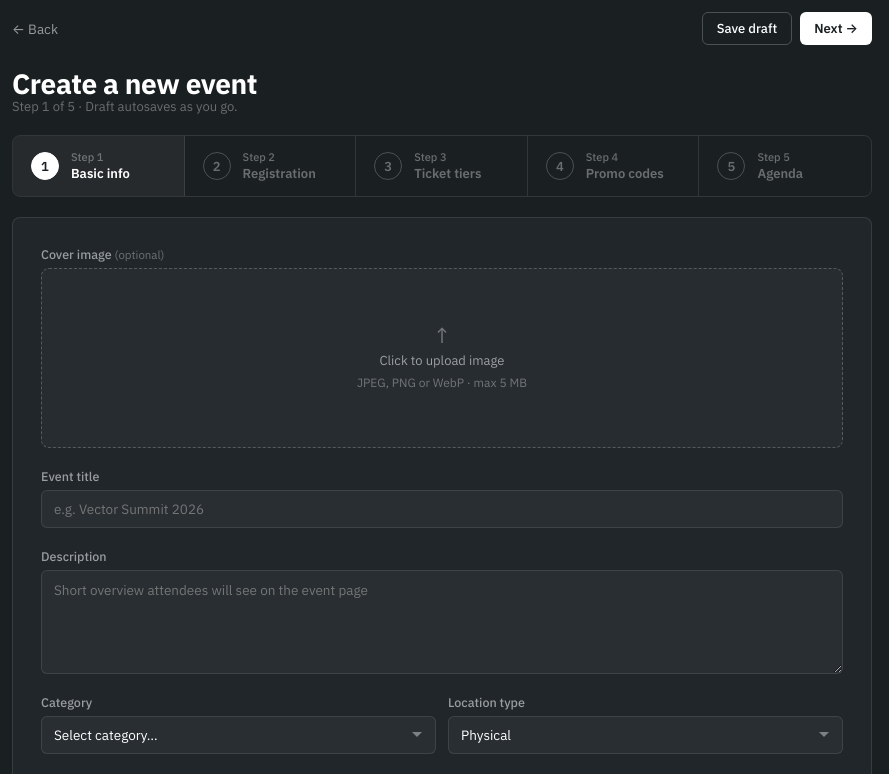
Scenario: CreateEvent › shows tier name required error on save draft when tier name is blank
The width and height of the screenshot is (889, 774).
save draft with no step 1 data should show step 1 error first
Click the button "Save draft" at (747, 28), box [702,12,792,45]
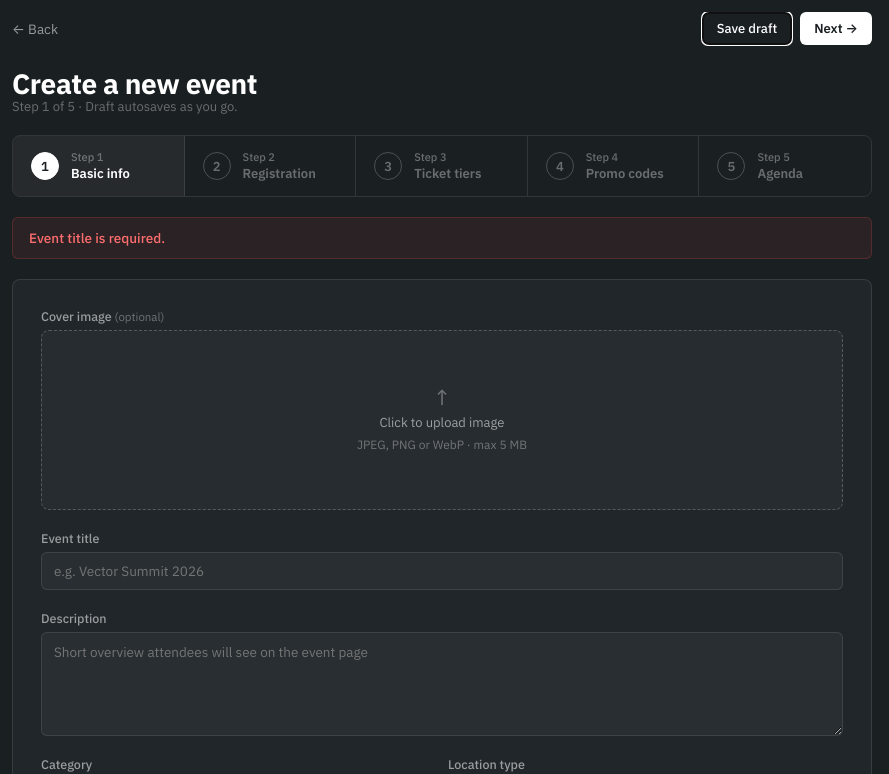
Expected: the text "Event title is required." is shown, [12,217,872,259]
